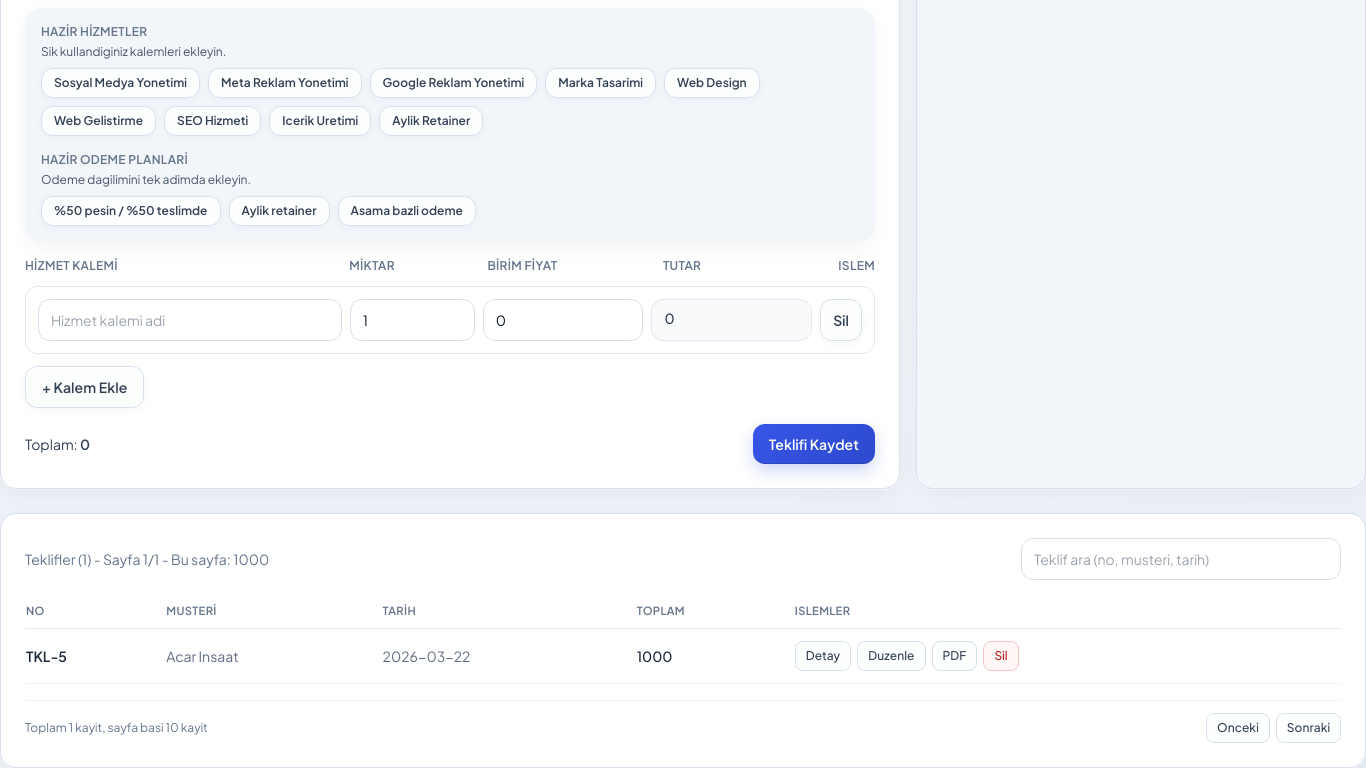
QuotesPage › edits and deletes quote from list actions
The width and height of the screenshot is (1366, 768).
(page scrolled)
Click the button "Duzenle": point(891, 656) [857,641,926,671]
(page scrolled)
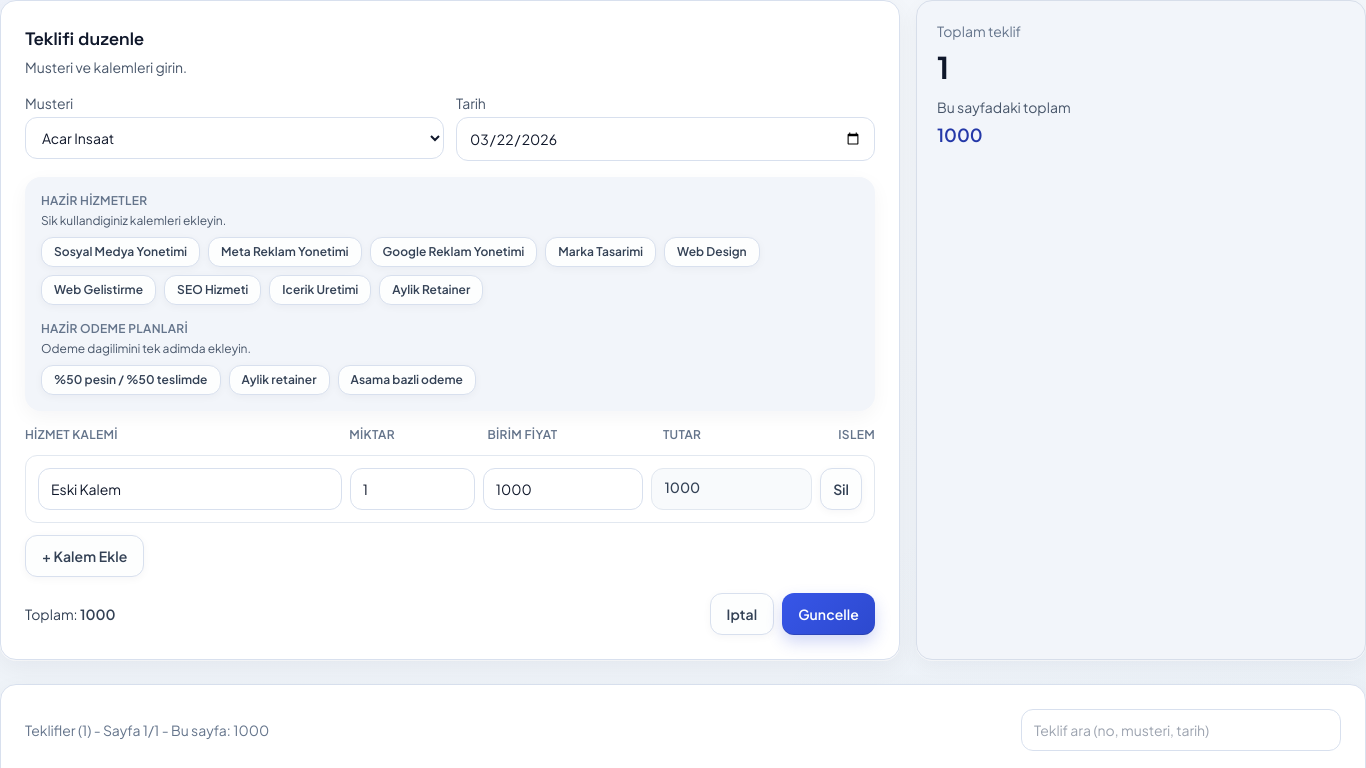
Expected: the button "Guncelle" is shown, [782,593,875,635]
Replace the text in the field with placeholder "Hizmet kalemi adi" with "Guncel Kalem": point(190, 489) [38,468,342,510]
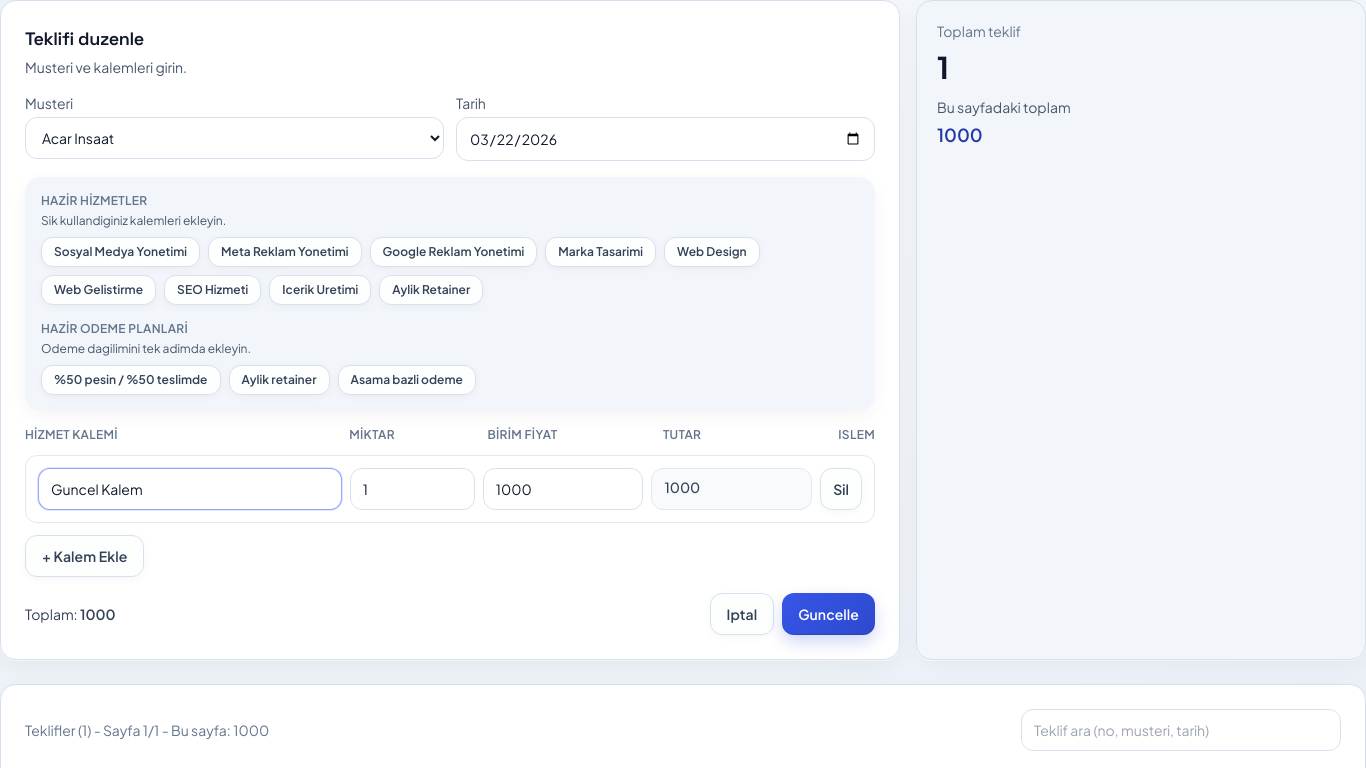
Click the button "Guncelle": point(829, 614) [782,593,875,635]
(page scrolled)
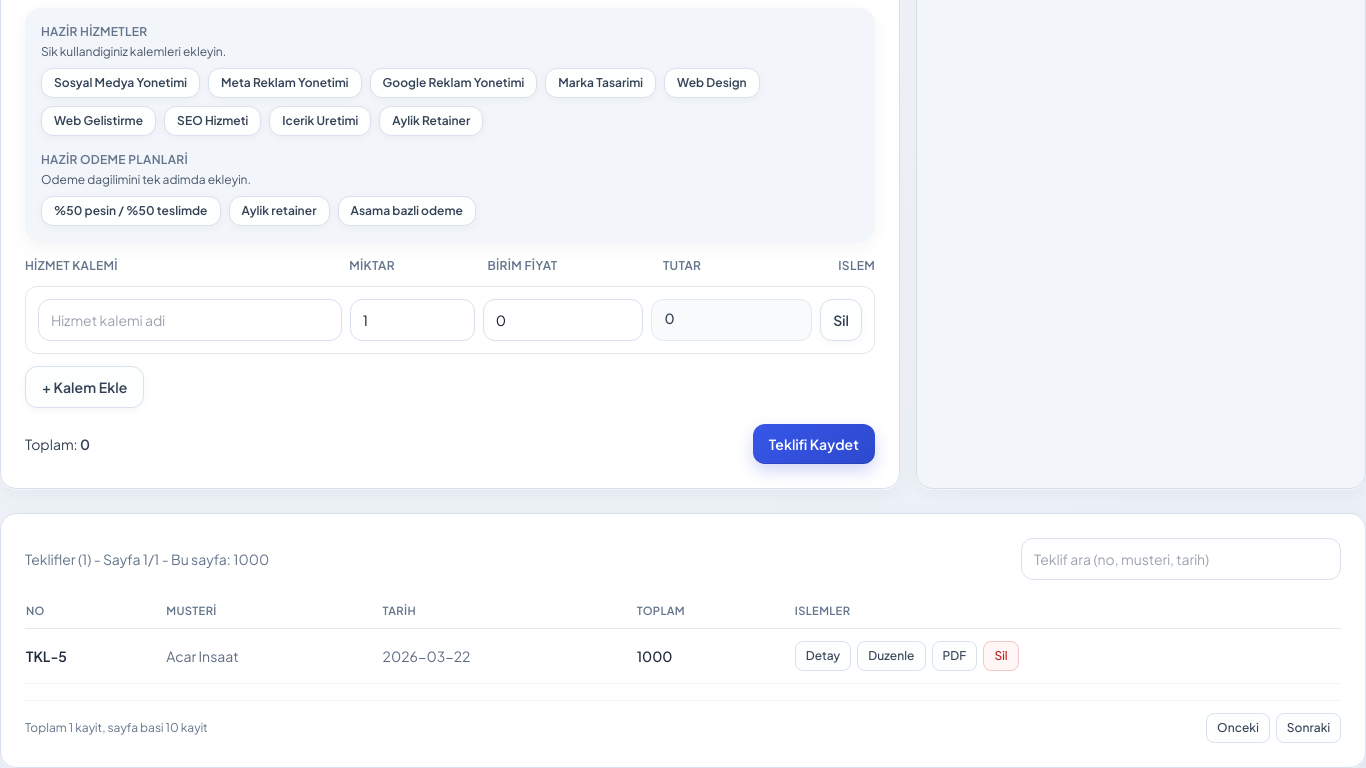
Click the button "Sil" in the row of "Detay": point(1001, 656) [983,641,1019,671]
(page scrolled)
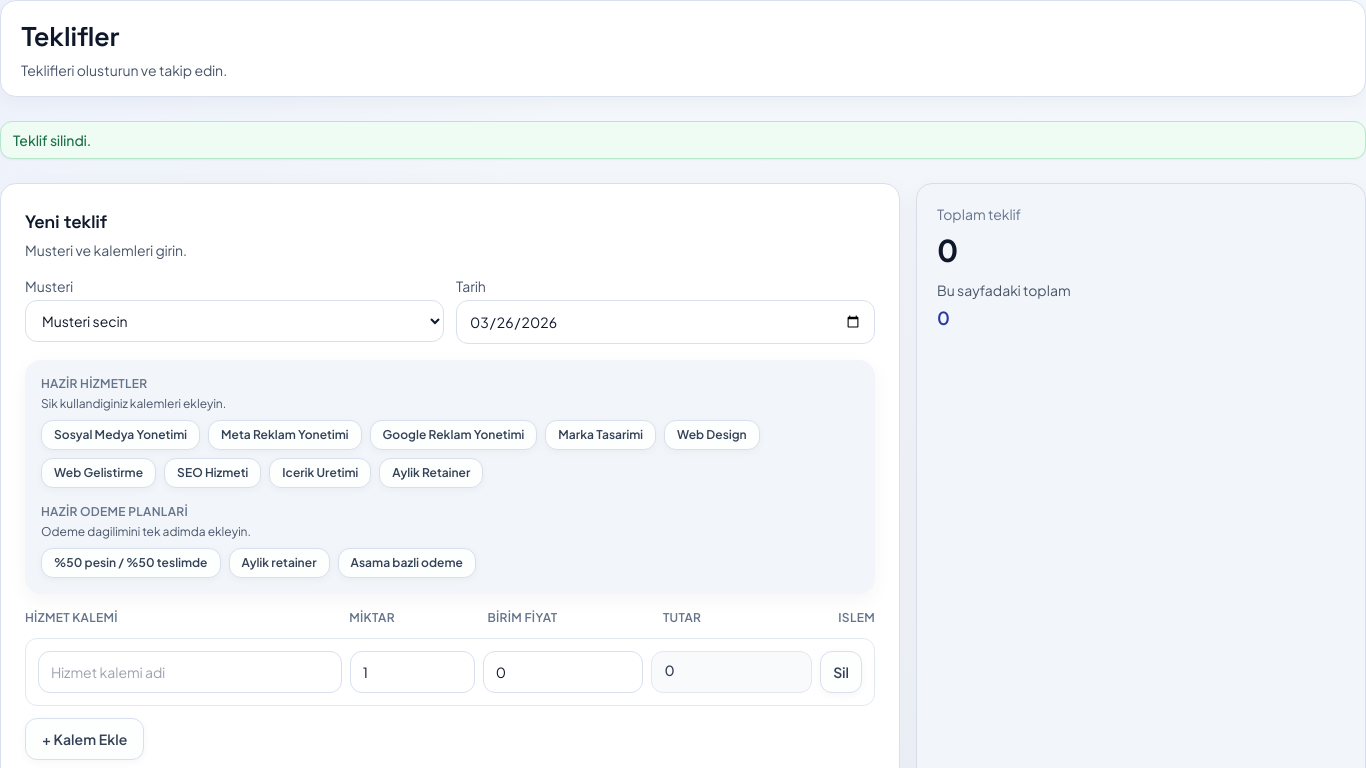
Expected: the text "Teklif silindi." is shown, [0,121,1365,159]
